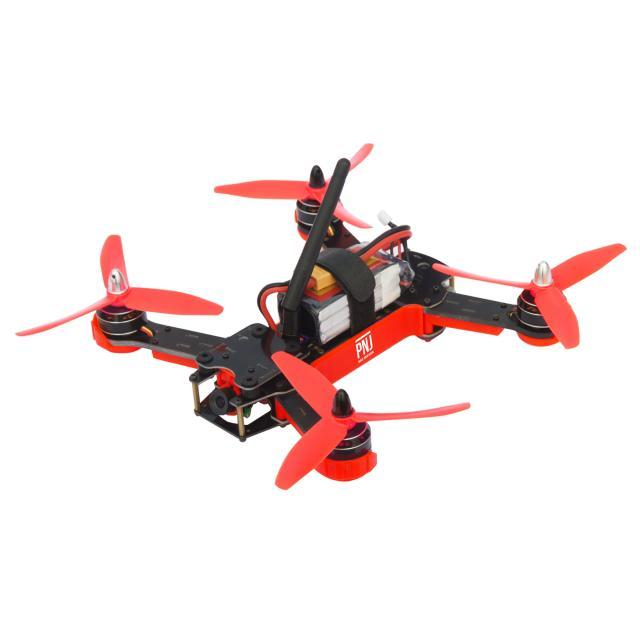drone: (39, 140, 620, 468)
